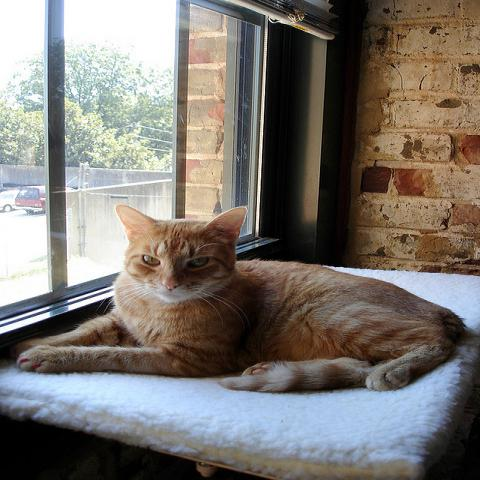car: (13, 185, 76, 215), (0, 189, 20, 214)
